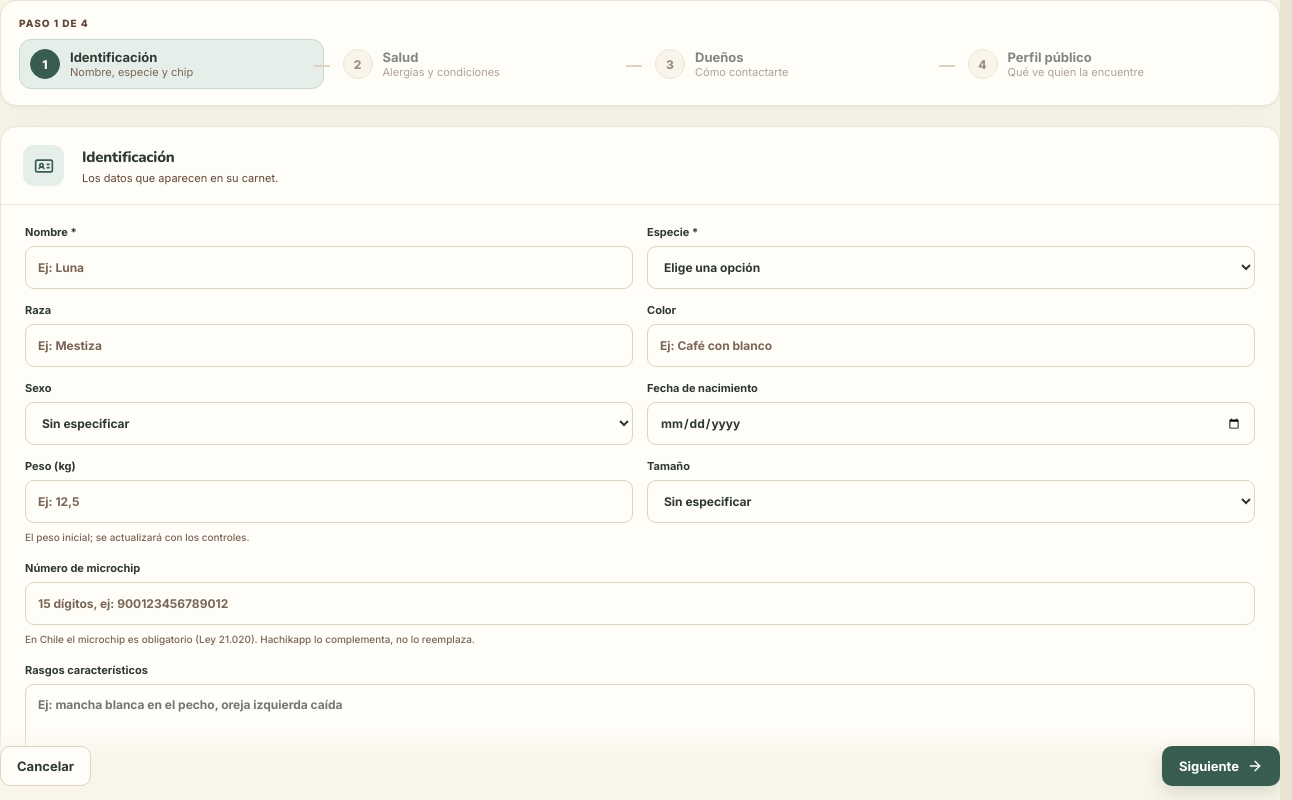
Scenario: PetForm wizard › keeps the full chip number when it is pasted in groups
Click the field labelled "Número de microchip": point(640, 604) [25,582,1255,625]
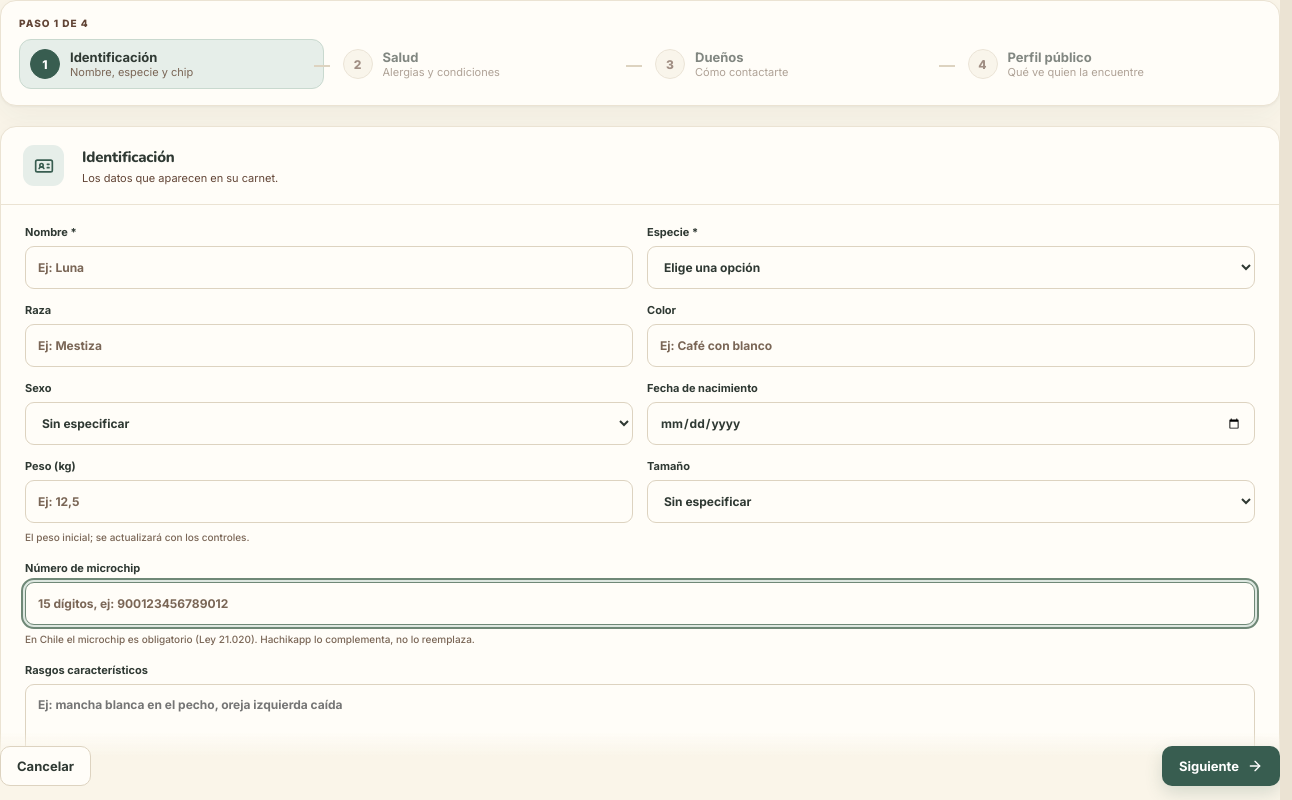
Type keys "900 123 456 789 012"
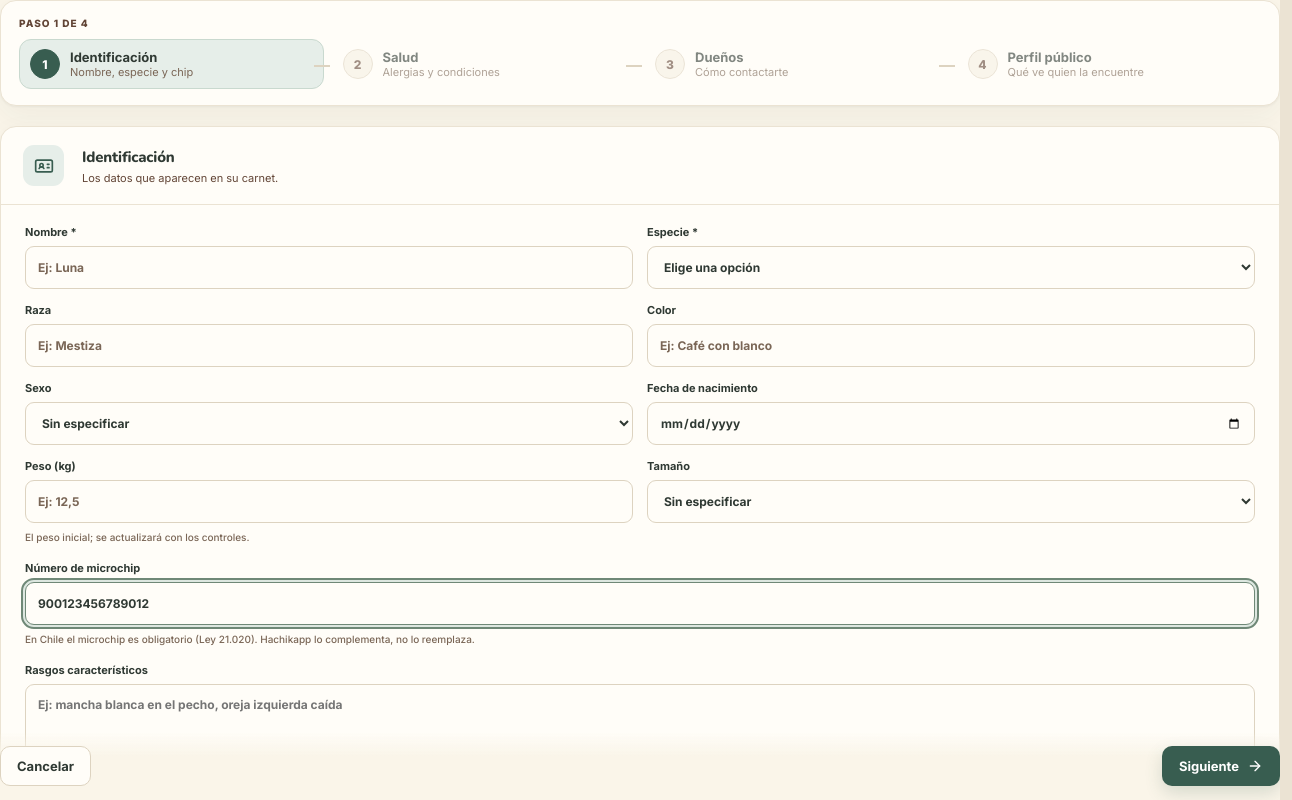
Check: the field labelled "Número de microchip" holds "900123456789012", box [25,582,1255,625]
